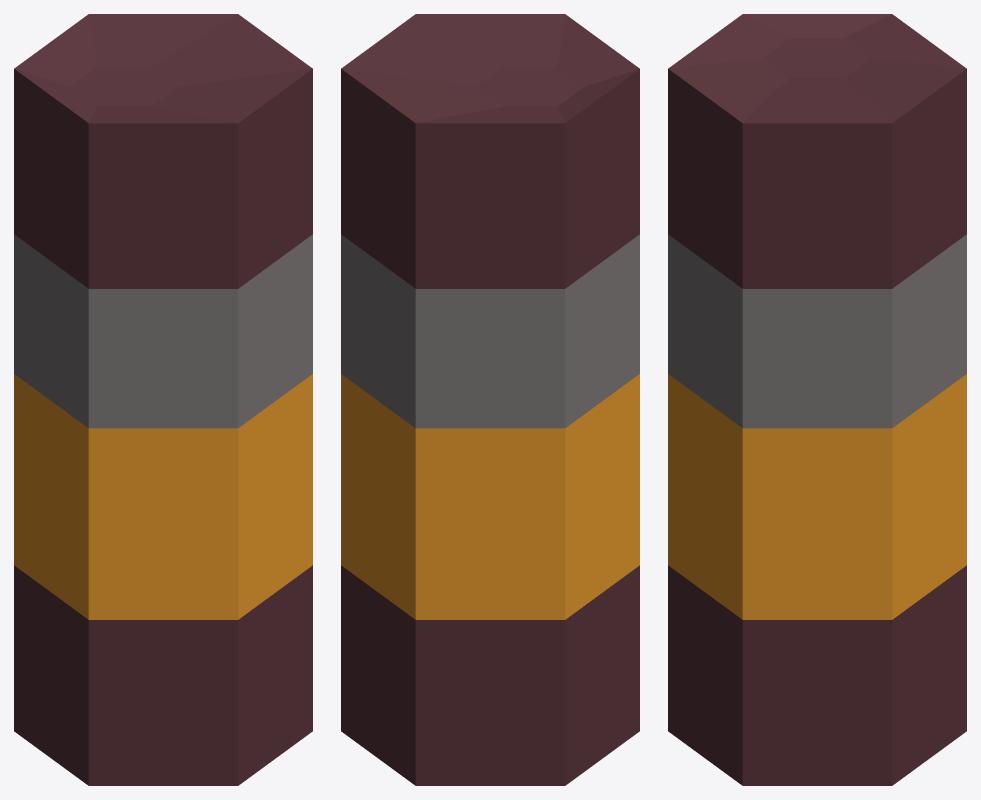
Rendered from scifi-scifi-drink.glb.
3 renders of one model, left to right at view 1: azimuth 30°, elevation 25°; view 2: azimuth 150°, elevation 25°; view 3: azimuth 270°, elevation 25°, orthographic.
Parts seen in each view (by area): view 1: scifi-drink; view 2: scifi-drink; view 3: scifi-drink.
Part boxes in pixels (bbox=[...]): scifi-drink: bbox=[14, 14, 312, 785]; scifi-drink: bbox=[341, 14, 639, 785]; scifi-drink: bbox=[668, 14, 966, 785].
Bounding box in the file's own units: 0.0631 × 0.1781 × 0.0728.
